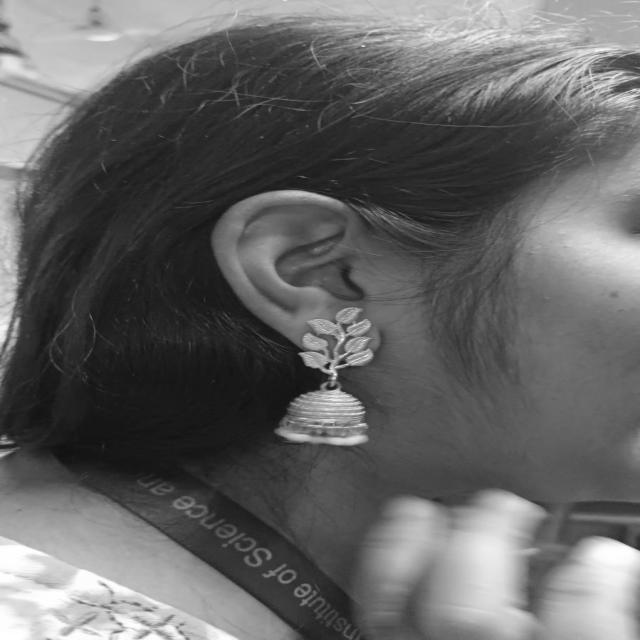ear: (212, 190, 373, 344), (372, 336, 375, 338)
